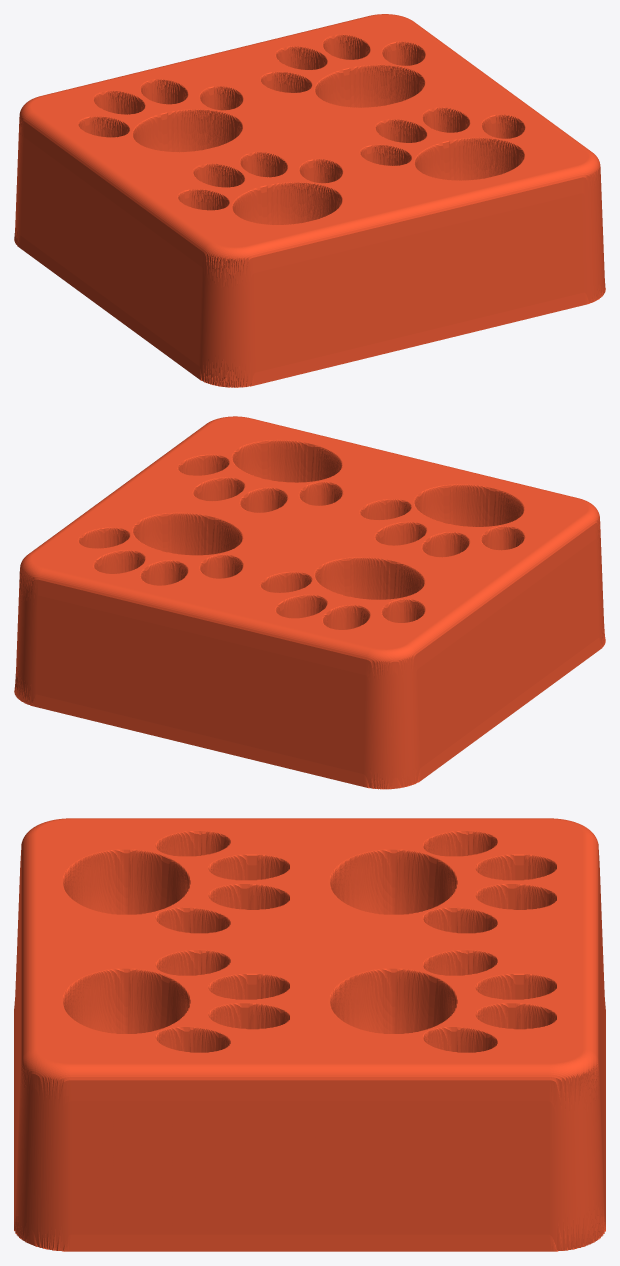
Rendered from mold.glb.
3 views of the same model, one above another, from view 1: azimuth 30°, elevation 25°; view 2: azimuth 150°, elevation 25°; view 3: azimuth 270°, elevation 25° (orthographic). The views are drawn at different scales.
Parts seen in each view (by area): view 1: geometry_0; view 2: geometry_0; view 3: geometry_0.
Part boxes in pixels (x1,y1,x2,y2): geometry_0: (14,14,605,387); geometry_0: (14,416,605,789); geometry_0: (14,818,605,1251).
Size of the model in its own units: 0.0992 by 0.0314 by 0.0944.
